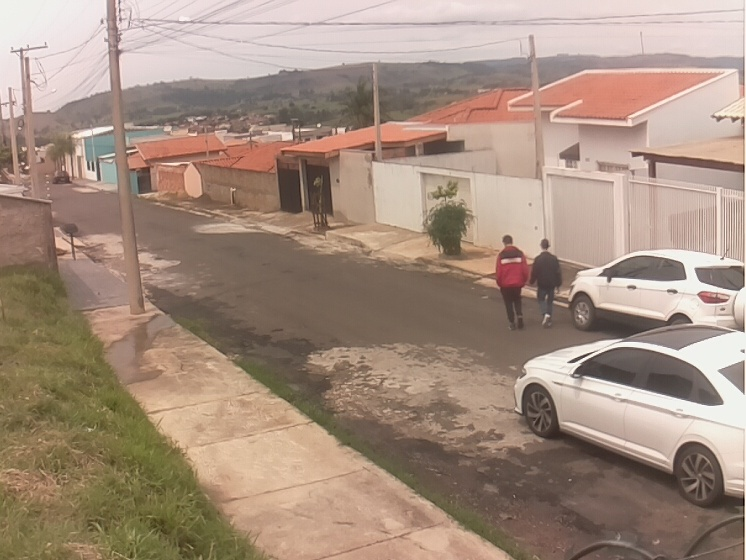person: (493, 232, 530, 332), (528, 237, 564, 330)
